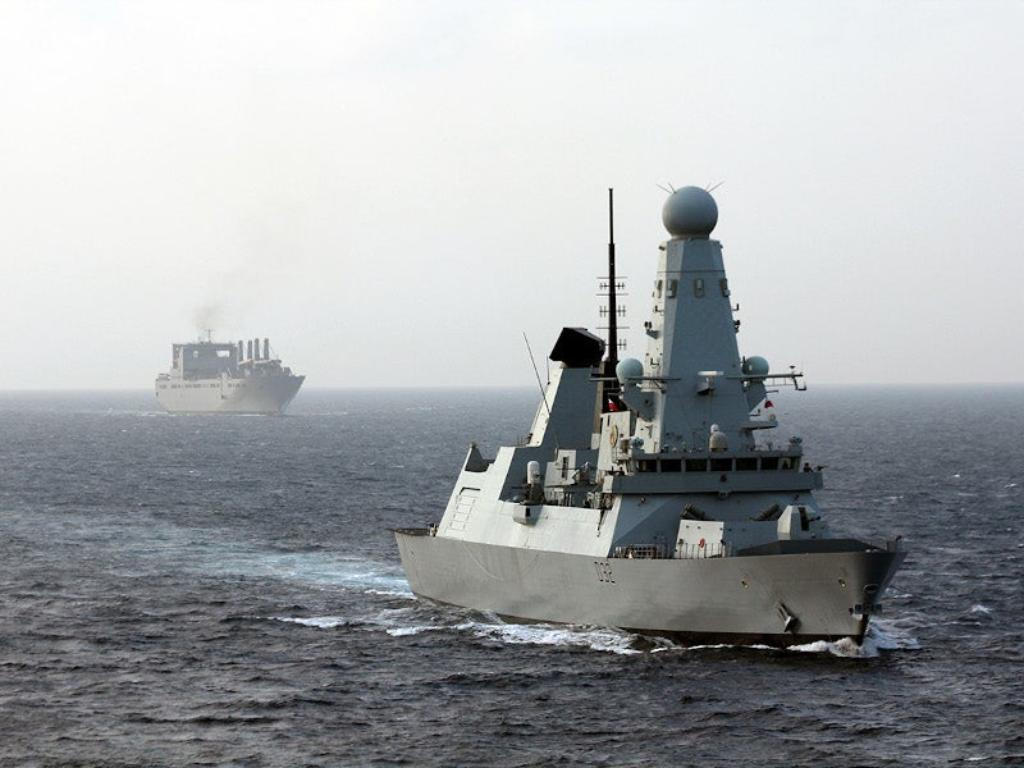Warship: (381, 182, 921, 646)
